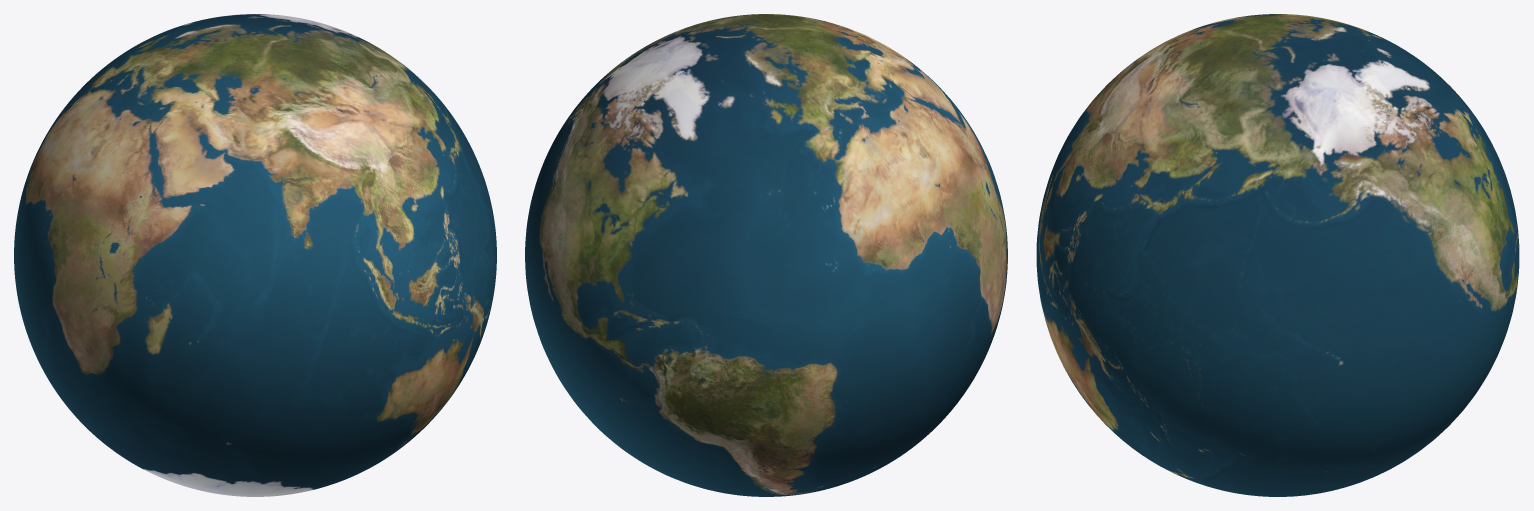
Rendered from Earth.glb.
3 views of the same model, side by side, from view 1: azimuth 30°, elevation 25°; view 2: azimuth 150°, elevation 25°; view 3: azimuth 270°, elevation 25° (orthographic).
Parts seen in each view (by area): view 1: earth1; view 2: earth1; view 3: earth1.
Boxes of the visible parts, <box> form: earth1: <box>14,14,496,496</box>; earth1: <box>525,14,1007,496</box>; earth1: <box>1036,14,1519,496</box>.
Bounding box in the file's own units: 2.08 × 2.08 × 2.08.
1 material, 1 textured.
